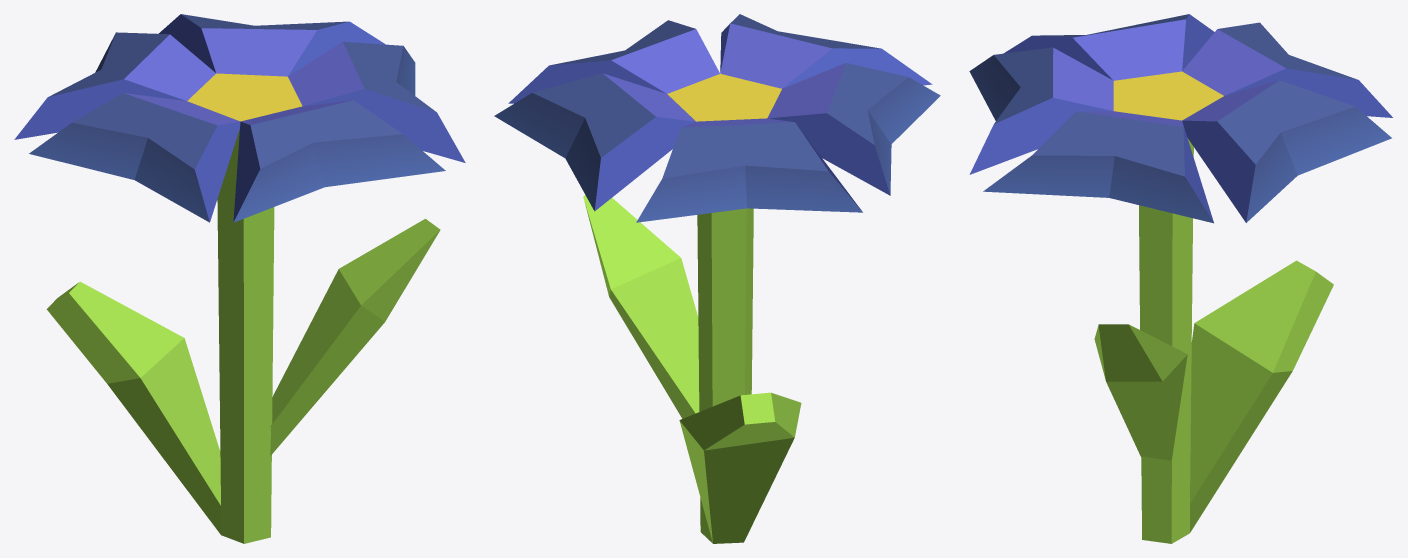
Rendered from flower_deep_blue.fbx.
The picture shows the model from 3 angles, left to right: view 1: azimuth 30°, elevation 25°; view 2: azimuth 150°, elevation 25°; view 3: azimuth 270°, elevation 25°; orthographic projection.
Visible parts, largest first — view 1: flower_blue; view 2: flower_blue; view 3: flower_blue.
Boxes of the visible parts, x1,y1,x2,y2 form: flower_blue: [14, 14, 465, 543]; flower_blue: [494, 14, 940, 543]; flower_blue: [969, 14, 1392, 543].
Bounding box in the file's own units: 26.81 × 30.62 × 25.56.
